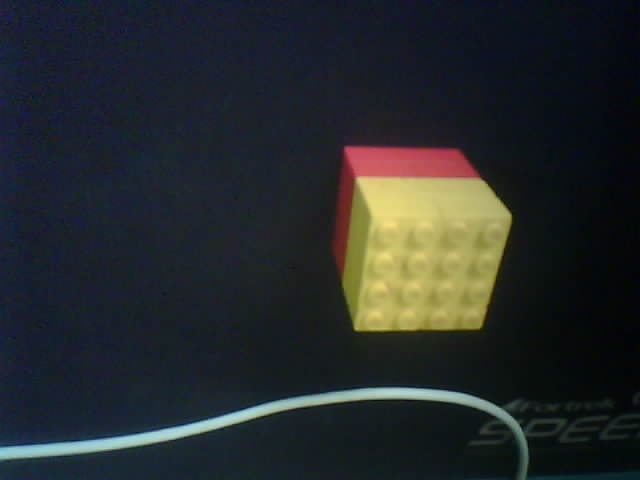lego: (330, 143, 513, 336)
